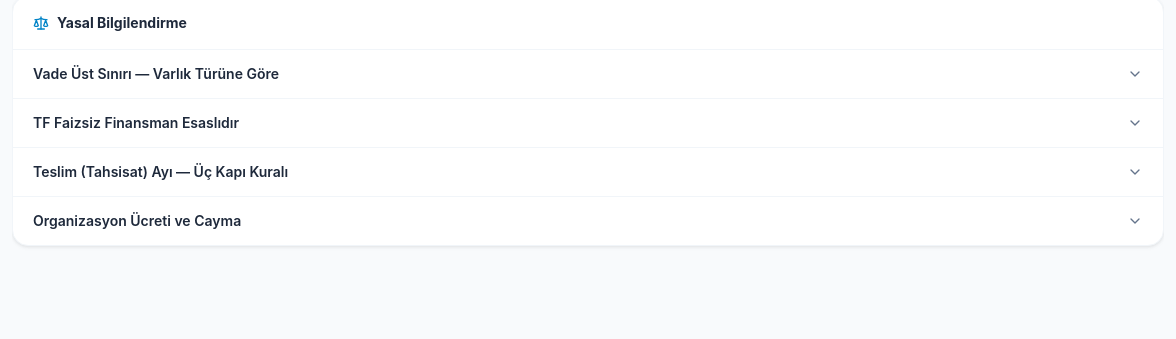
Test: OptimizerYasalPaneli — BDDK citations › Vade cap item cites Yön. m. 22/3
Click the button "Vade Üst Sınırı — Varlık Türüne Göre". click: [156, 74]
box: [13,50,1163,98]
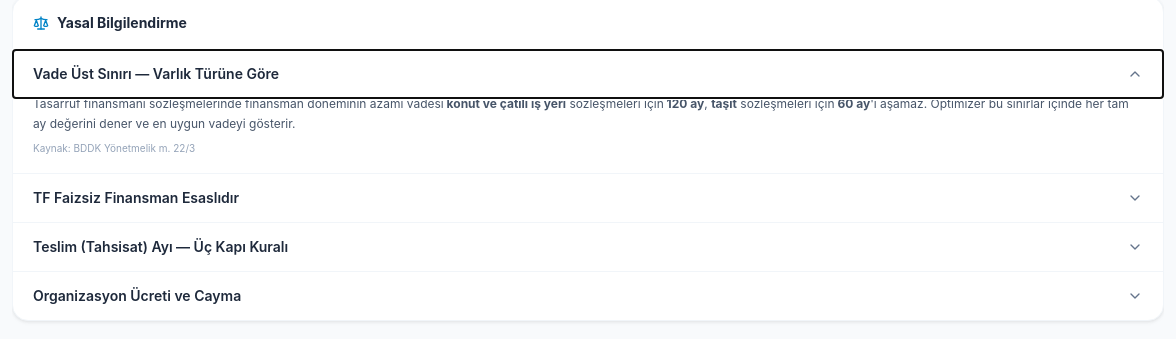
Now the text "Yönetmelik m. 22/3" is shown, box [74,142,195,154]
